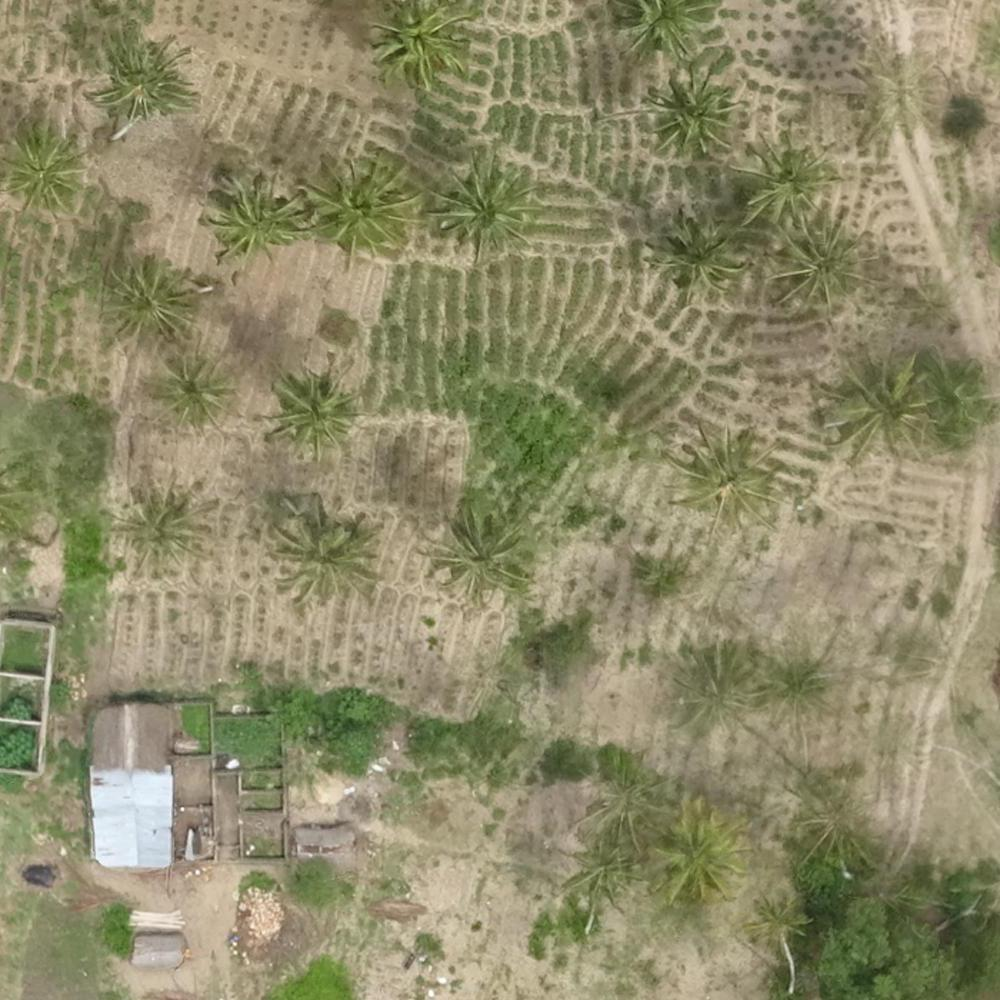Palm: (829, 352, 929, 452), (311, 158, 419, 247), (268, 508, 372, 599), (675, 424, 772, 521), (430, 159, 528, 255), (770, 217, 866, 308), (647, 72, 741, 157), (647, 205, 741, 290), (94, 30, 188, 114), (102, 256, 191, 342), (209, 177, 299, 260), (146, 351, 233, 434), (374, 4, 469, 80), (119, 484, 205, 567), (742, 135, 828, 218), (1, 122, 81, 211), (435, 513, 524, 589), (268, 365, 349, 448), (611, 1, 708, 58)
